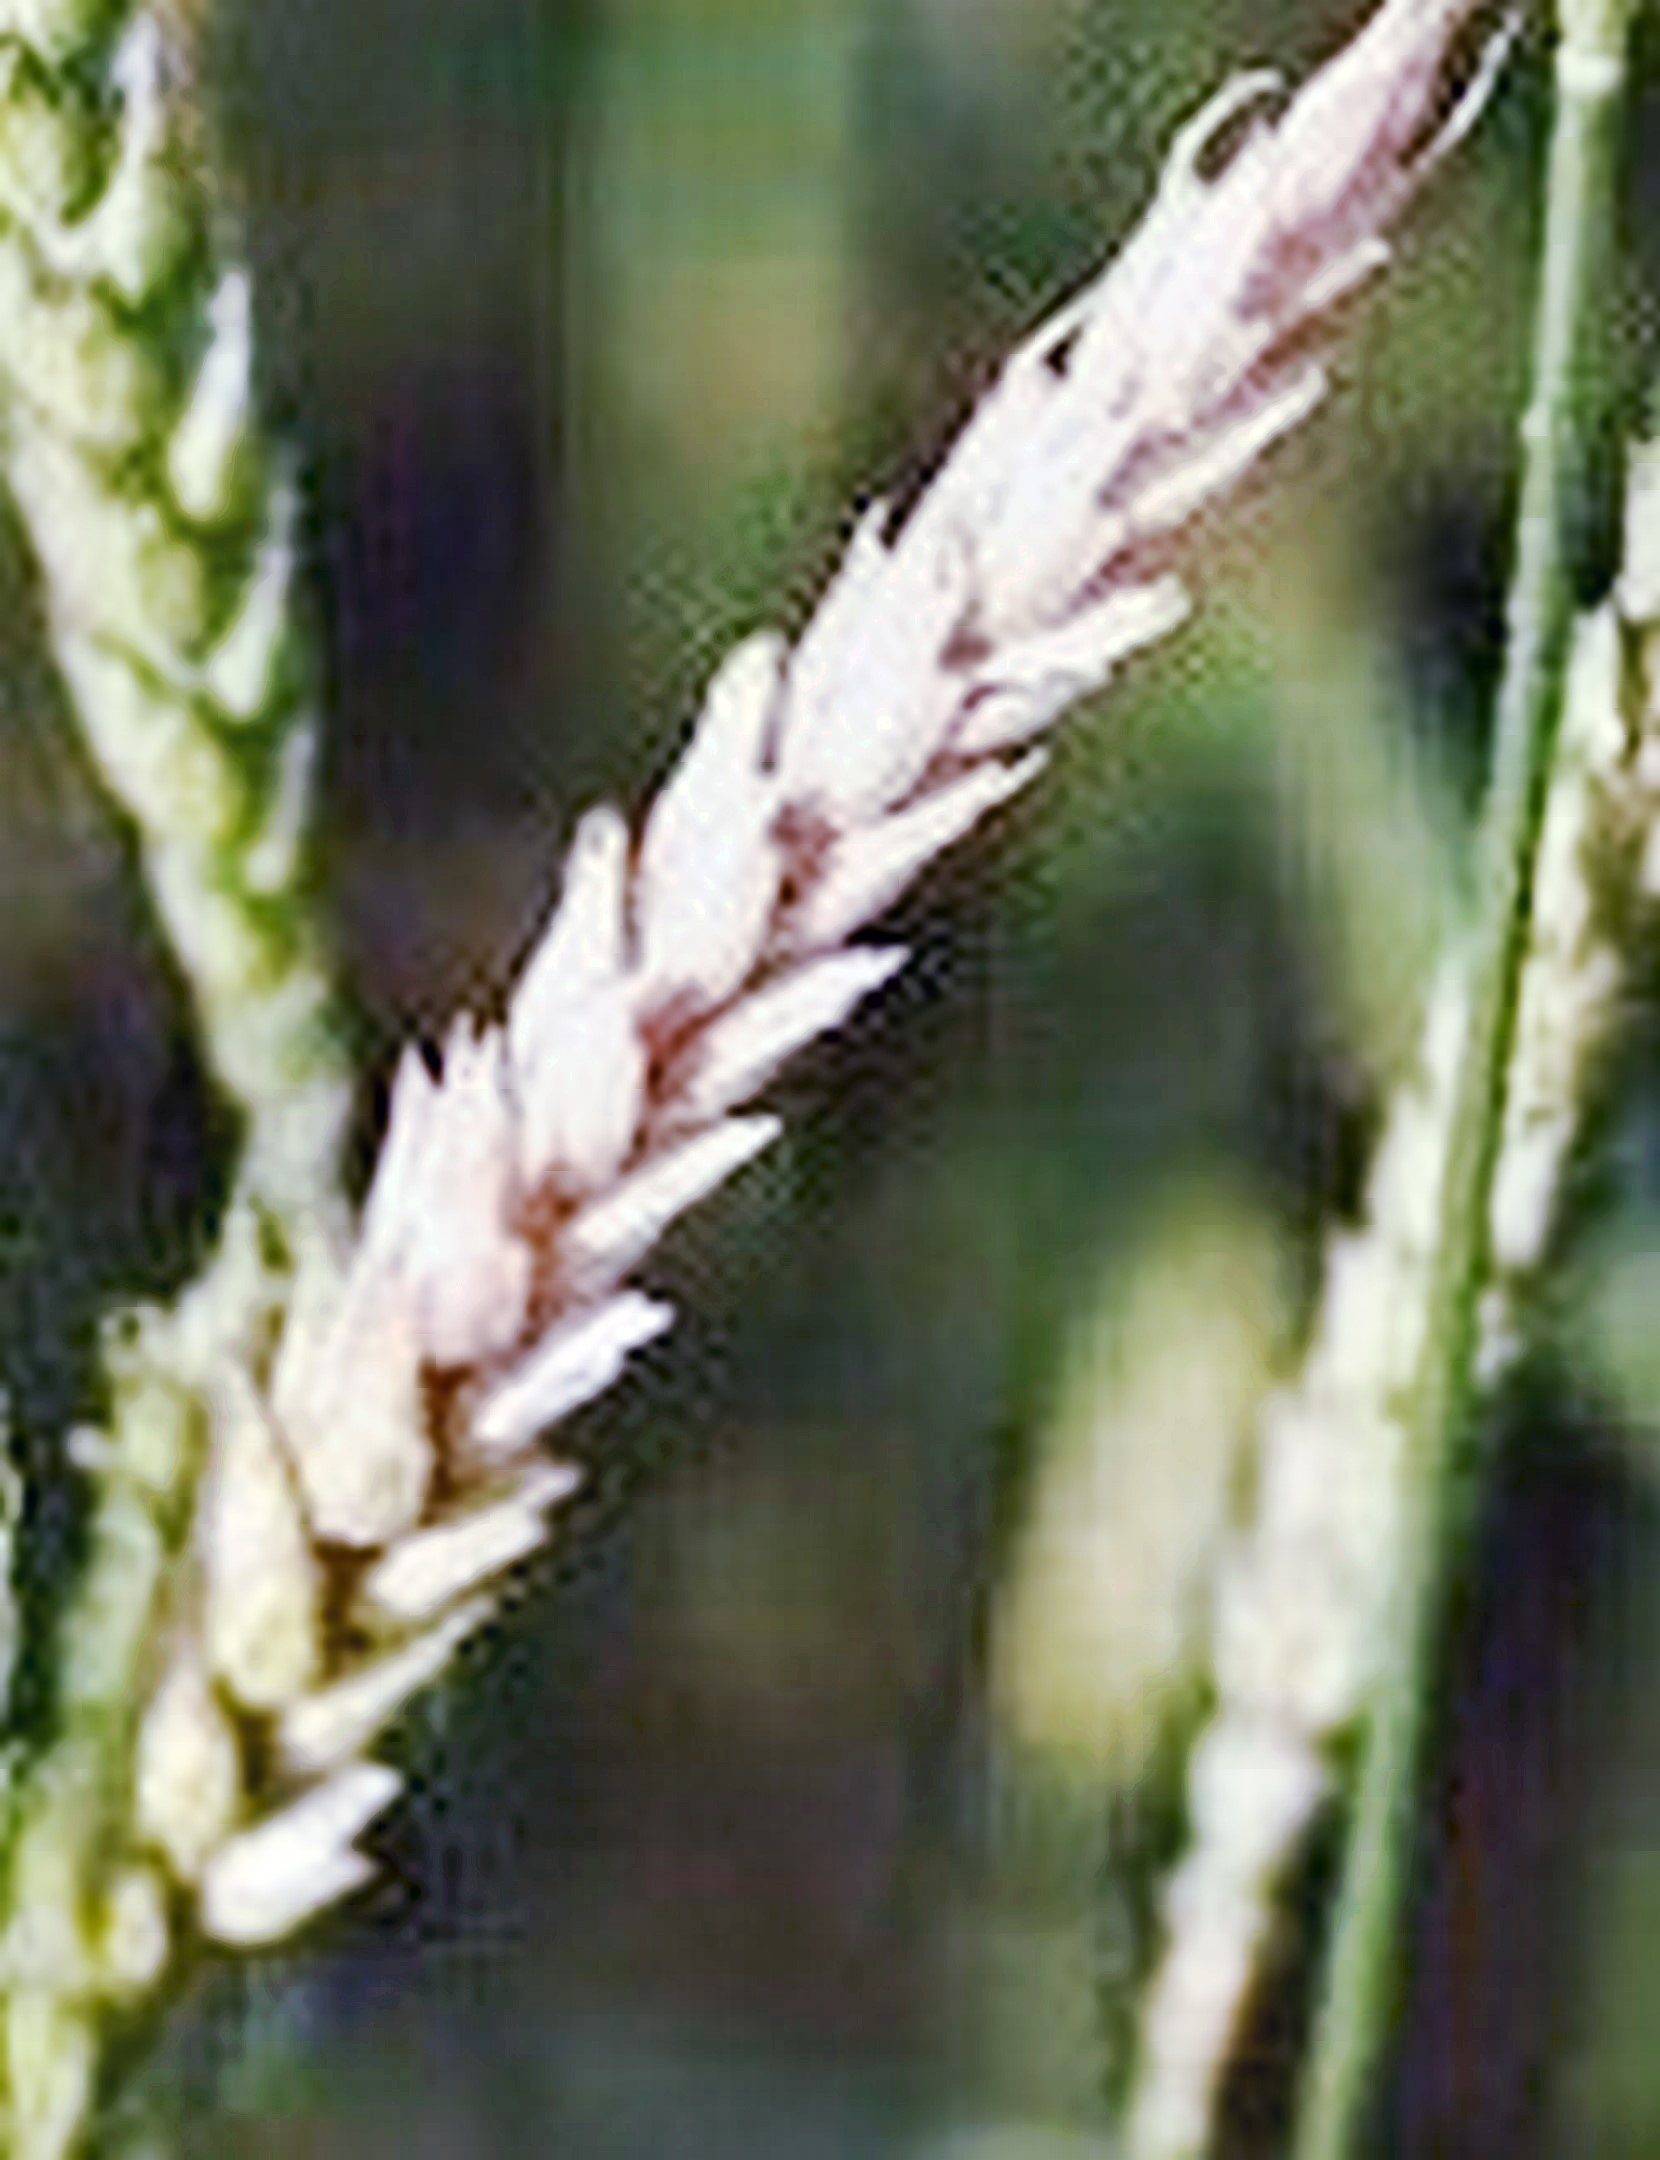Wheat scab: (166, 56, 1454, 1933)
